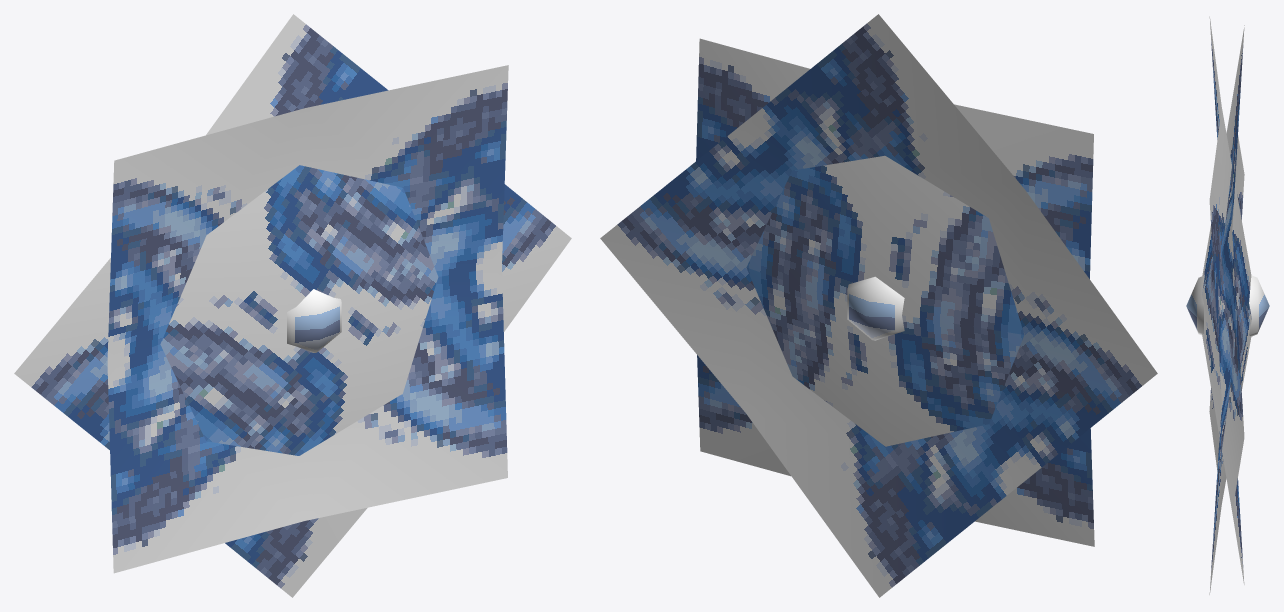
3 views of the same model, side by side, from view 1: azimuth 30°, elevation 25°; view 2: azimuth 150°, elevation 25°; view 3: azimuth 270°, elevation 25° (orthographic). The views are drawn at different scales.
Visible parts, largest first — view 1: 3284IMIG05_10; view 2: 3284IMIG05_10; view 3: 3284IMIG05_10.
Part boxes in pixels (x1,y1,x2,y2): 3284IMIG05_10: (14, 14, 571, 597); 3284IMIG05_10: (600, 14, 1157, 597); 3284IMIG05_10: (1186, 16, 1269, 594).
Size of the model in its own units: 2.4 by 2.4 by 0.323.
1 material, 1 textured.
